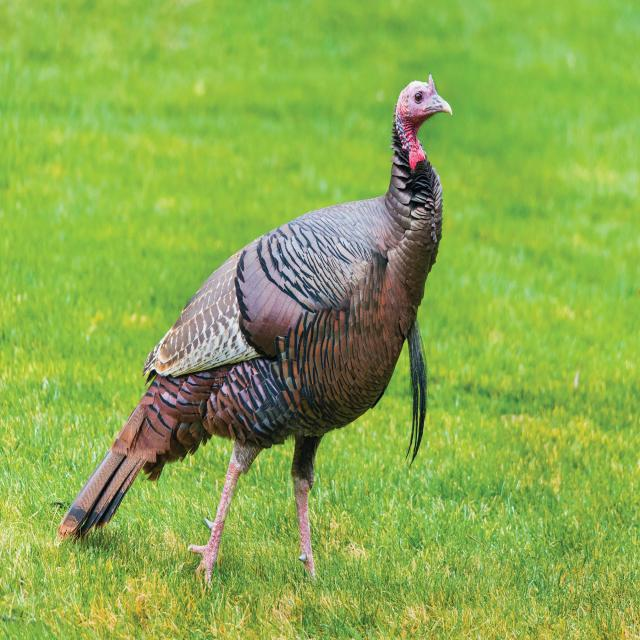Turkey: (63, 70, 463, 568)
